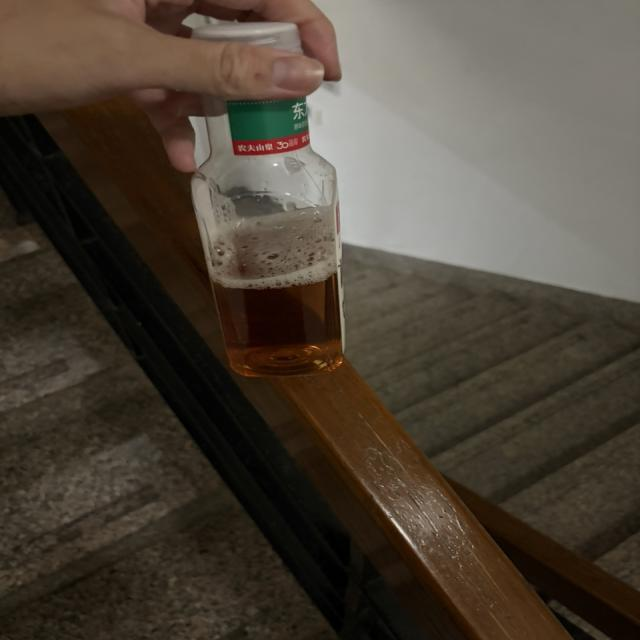medium: (192, 98, 343, 376), (193, 23, 301, 52)
